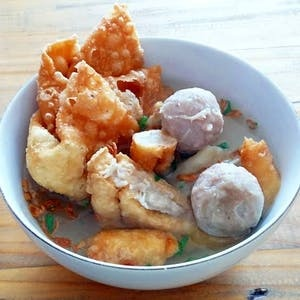bakso_malang: (25, 3, 281, 266)
